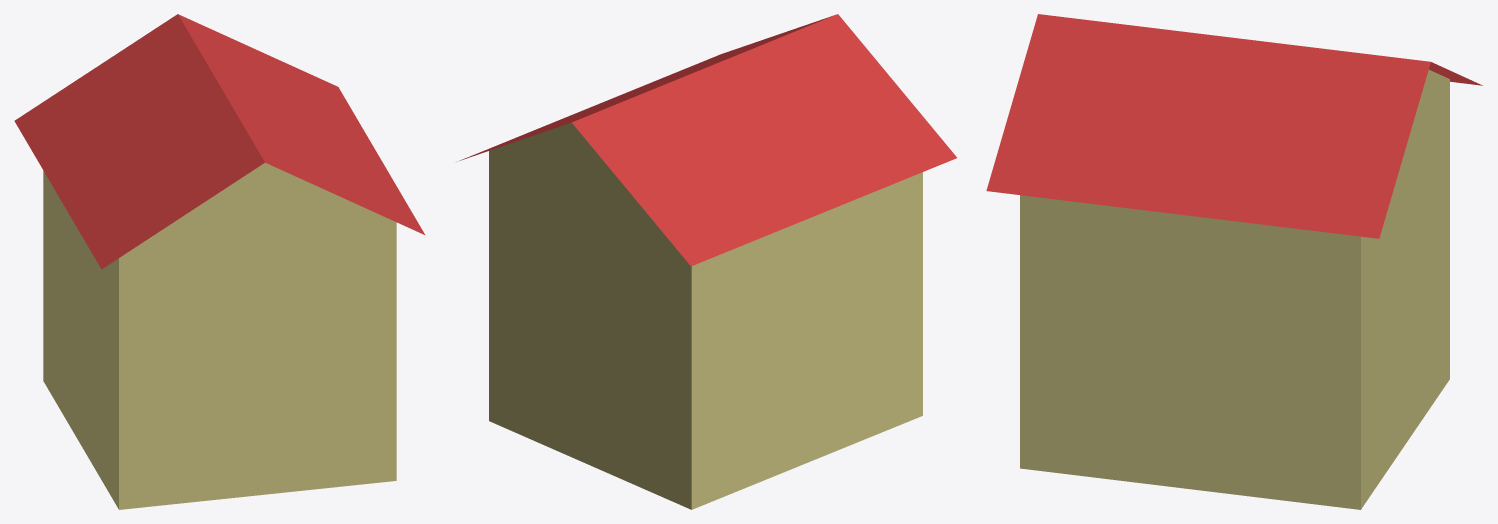
3 views of the same model, side by side, from view 1: azimuth 30°, elevation 25°; view 2: azimuth 150°, elevation 25°; view 3: azimuth 270°, elevation 25° (orthographic). The views are drawn at different scales.
Bounding box in the file's own units: 13.18 × 13.79 × 11.82.
